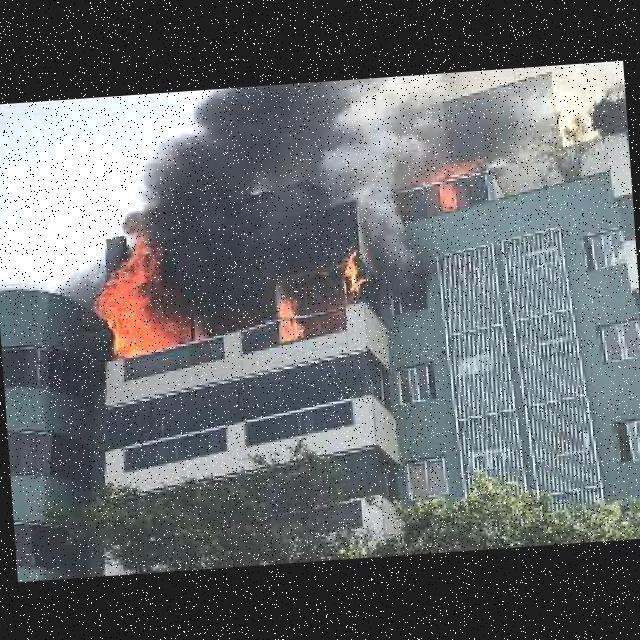Fire: (83, 243, 194, 352), (426, 167, 479, 208), (343, 250, 374, 290), (281, 298, 305, 335)
Smoke: (80, 77, 371, 260), (362, 74, 441, 300), (423, 62, 580, 172), (40, 261, 106, 353)
